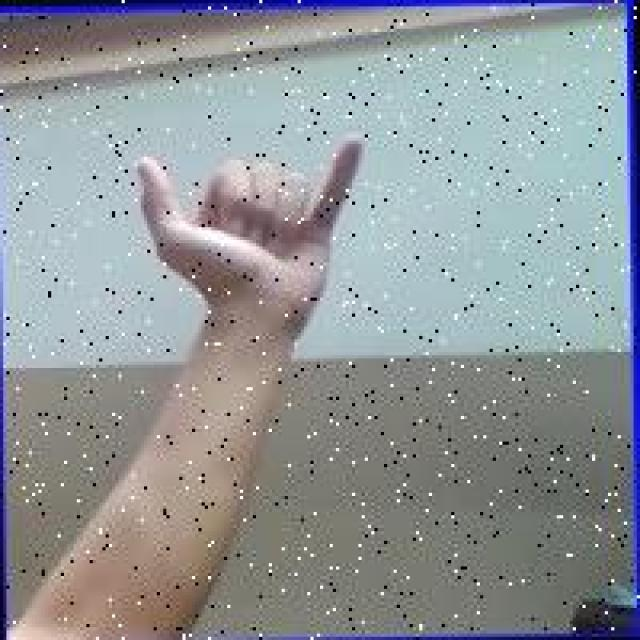Y: (128, 125, 374, 336)
